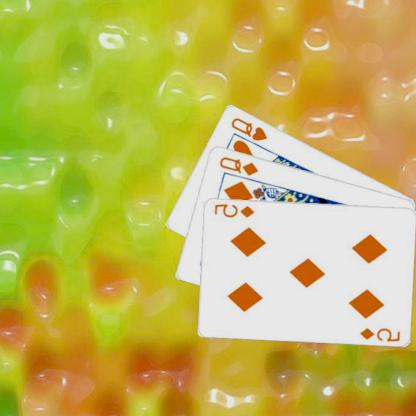5D: (358, 324, 403, 342), (213, 201, 257, 219)
QD: (218, 153, 262, 177)
QH: (230, 114, 270, 142)
